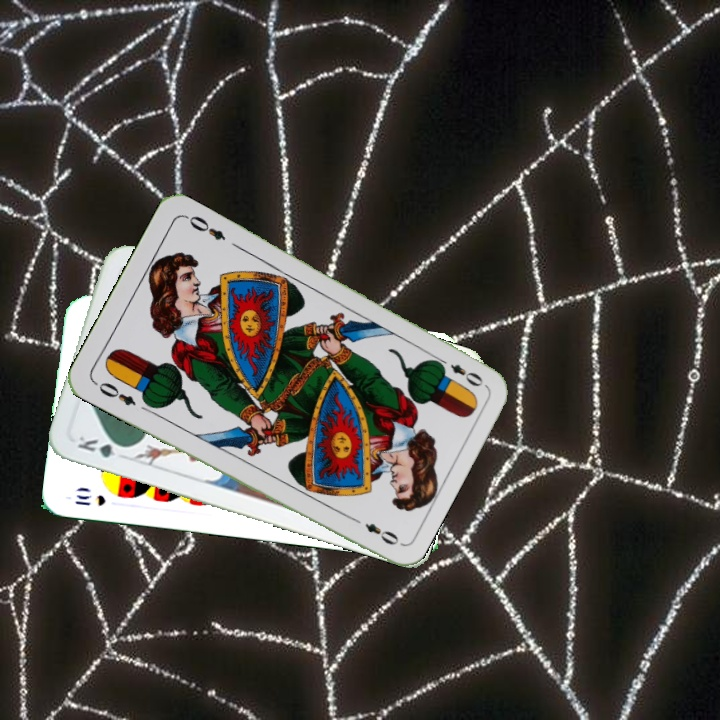EO: (432, 353, 486, 390), (94, 378, 139, 409)
GK: (73, 431, 131, 461)
S10: (71, 491, 108, 508)
